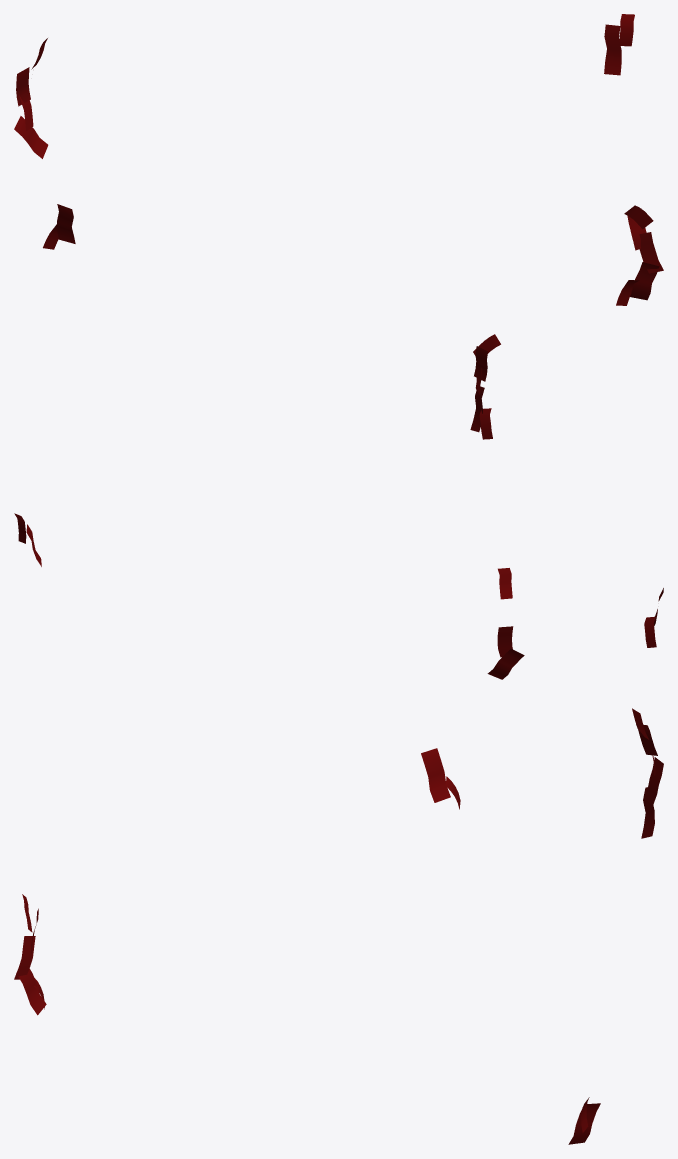
The model's file is TocTocWoodMan_Ivy.fbx.
3 renders of one model, top to bottom at view 1: azimuth 30°, elevation 25°; view 2: azimuth 150°, elevation 25°; view 3: azimuth 270°, elevation 25°, orthographic. The views are drawn at different scales.
Visible parts, largest first — view 1: TocTocWoodMan_Ivy; view 2: TocTocWoodMan_Ivy; view 3: TocTocWoodMan_Ivy.
Part boxes in pixels (left/top/right/bottom): TocTocWoodMan_Ivy: left=14, top=14, right=663, bottom=305; TocTocWoodMan_Ivy: left=14, top=334, right=663, bottom=679; TocTocWoodMan_Ivy: left=14, top=708, right=663, bottom=1144.
Size of the model in its own units: 1318 by 285 by 1076.
